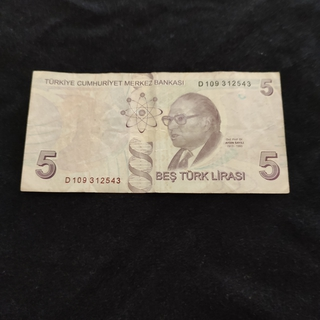5TLBack: (19, 68, 290, 195)
